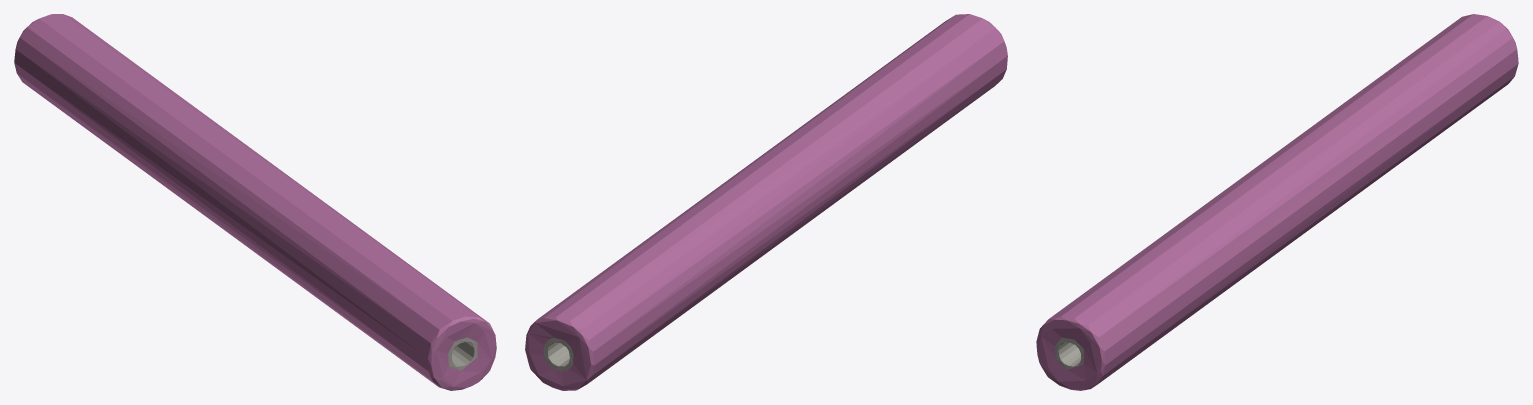
File: silk roll.glb
3 renders of one model, left to right at view 1: azimuth 30°, elevation 25°; view 2: azimuth 150°, elevation 25°; view 3: azimuth 330°, elevation 25°, orthographic.
Visible parts, largest first — view 1: Cube; view 2: Cube; view 3: Cube.
Part boxes in pixels (left/top/right/bottom): Cube: left=14, top=14, right=496, bottom=390; Cube: left=525, top=14, right=1007, bottom=390; Cube: left=1036, top=14, right=1518, bottom=390.
Bounding box in the file's own units: 0.1429 × 0.1429 × 1.49.
